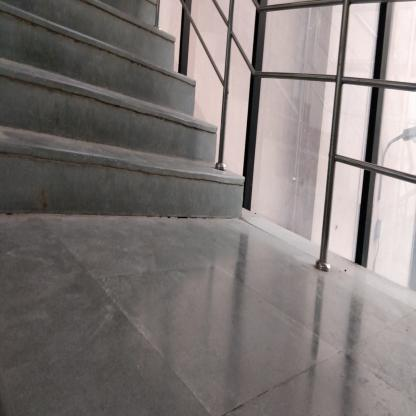stairs: (22, 84, 199, 233)
